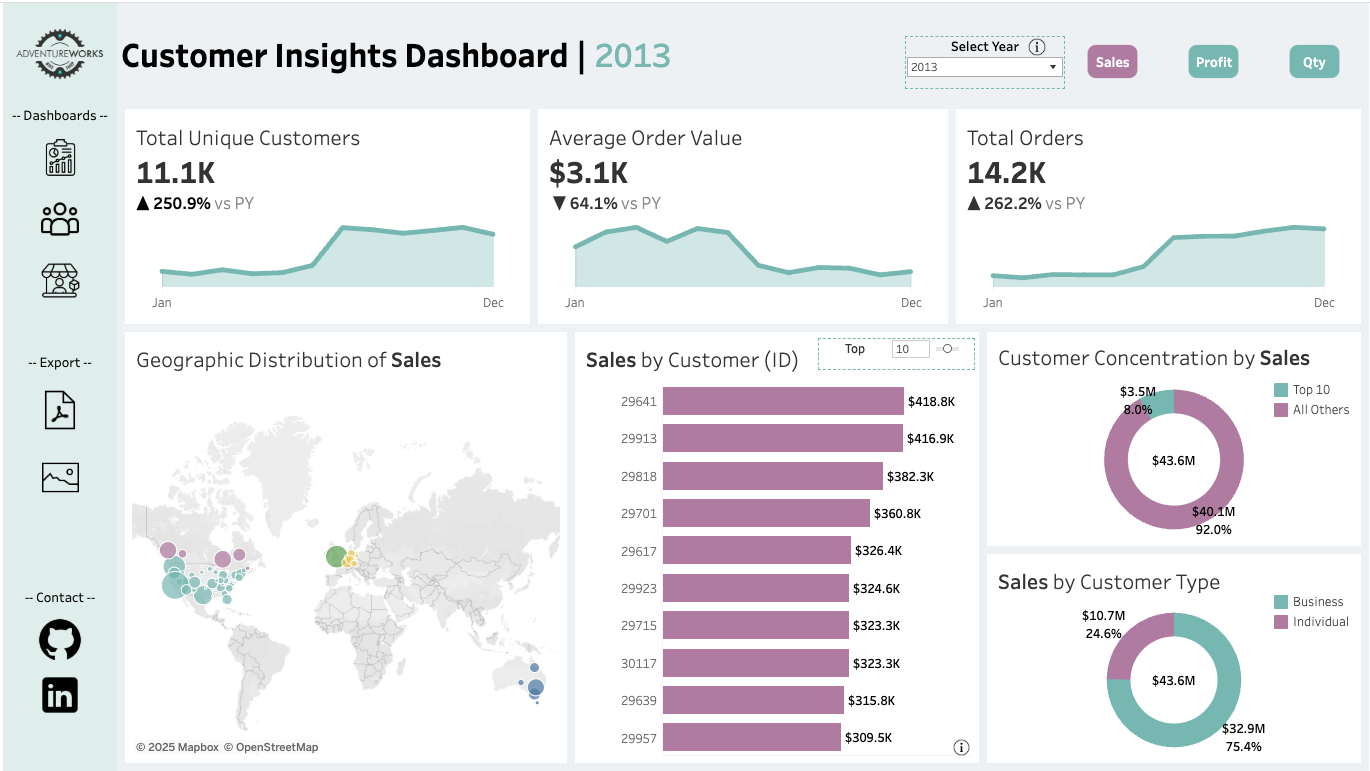

Layout of this report page (visuals, bound fields, positions):
{"tool":"tableau","page":{"name":"Customer Insights Dashboard","canvas":[1366,768],"ordinal":0},"visuals":[{"type":"image","param":"/Users/yishakali/Desktop/Data Sci/06. Personal Projects/AdventureWorks Analytics","box":[0,0,114,102]},{"type":"text","box":[114,0,941,102]},{"type":"worksheet","title":"Sales Button","mark":"Shape","box":[1059,4,101,94]},{"type":"worksheet","title":"Profit Button","mark":"Shape","box":[1160,4,101,94]},{"type":"worksheet","title":"Qty Button","mark":"Shape","box":[1261,4,101,94]},{"type":"parameter","param":"[Parameters].[Parameter 1]","box":[902,33,160,53]},{"type":"dashboard-object","box":[1024,37,18,18]},{"type":"text","box":[120,79,491,30]},{"type":"text","box":[0,102,114,18]},{"type":"worksheet","title":"Customers by Month","mark":"Area","rows":["Calculation_3598587260133130240","Calculation_3598587260133130240"],"cols":["orderdate"],"box":[114,102,417.3,223]},{"type":"worksheet","title":"AOV by Month","mark":"Area","rows":["Calculation_3849662939385085952","Calculation_3849662939385085952"],"cols":["orderdate"],"box":[531.3,102,417.3,223]},{"type":"worksheet","title":"Orders by Month","mark":"Area","rows":["Calculation_3849662939385716737","Calculation_3849662939385716737"],"cols":["orderdate"],"box":[948.6,102,417.3,223]},{"type":"blank","box":[0,120,114,10]},{"type":"dashboard-object","box":[0,130,114,47]},{"type":"blank","box":[0,177,114,15]},{"type":"dashboard-object","box":[0,192,114,46]},{"type":"blank","box":[0,238,114,15]},{"type":"dashboard-object","box":[0,253,114,47]},{"type":"blank","box":[0,303,114,32]},{"type":"worksheet","title":"By Province","mark":"Circle","box":[114,325,454,443]},{"type":"worksheet","title":"By Customer","mark":"Automatic","rows":["customerid"],"cols":["Calculation_1243415759945351177"],"box":[568,325,411.9,443]},{"type":"worksheet","title":"Customer Concentration","mark":"Pie","rows":["Calculation_4341470092517289987","Calculation_4341470092517289987"],"box":[980,325,386,222]},{"type":"blank","box":[0,335,114,10]},{"type":"parameter","param":"[Parameters].[Parameter 4]","box":[815,335,157,32]},{"type":"text","box":[0,345,114,26]},{"type":"text","box":[582,357,198,30]},{"type":"blank","box":[0,371,114,10]},{"type":"dashboard-object","box":[0,381,114,50]},{"type":"blank","box":[0,431,114,20]},{"type":"dashboard-object","box":[0,451,114,45]},{"type":"blank","box":[0,496,114,40]},{"type":"worksheet","title":"By Customer Type","mark":"Pie","rows":["Calculation_4341470092517289987","Calculation_4341470092517289987"],"box":[980,547,386,221]},{"type":"text","box":[4,580,106,26]},{"type":"image","param":"/Users/yishakali/Desktop/Data Sci/06. Personal Projects/AdventureWorks Analytics","box":[4,606,106,60]},{"type":"image","param":"/Users/yishakali/Desktop/Data Sci/06. Personal Projects/AdventureWorks Analytics","box":[4,666,106,50]},{"type":"dashboard-object","box":[946,736,24,17]}]}

Visuals, with their boxes in screenshot pixels (x1, y1, x2, y2), scaled from the page's 1366x768 canvas onto the 1370x771 screenshot:
image: 0:0:114:102
text: 114:0:1058:102
"Sales Button" worksheet (Shape marks): 1062:4:1163:98
"Profit Button" worksheet (Shape marks): 1163:4:1265:98
"Qty Button" worksheet (Shape marks): 1265:4:1366:98
parameter: 905:33:1065:86
dashboard-object: 1027:37:1045:55
text: 120:79:613:109
text: 0:102:114:120
"Customers by Month" worksheet (Area marks): 114:102:533:326
"AOV by Month" worksheet (Area marks): 533:102:951:326
"Orders by Month" worksheet (Area marks): 951:102:1369:326
blank: 0:120:114:131
dashboard-object: 0:131:114:178
blank: 0:178:114:193
dashboard-object: 0:193:114:239
blank: 0:239:114:254
dashboard-object: 0:254:114:301
blank: 0:304:114:336
"By Province" worksheet (Circle marks): 114:326:570:770
"By Customer" worksheet: 570:326:983:770
"Customer Concentration" worksheet (Pie marks): 983:326:1369:549
blank: 0:336:114:346
parameter: 817:336:975:368
text: 0:346:114:372
text: 584:358:782:389
blank: 0:372:114:382
dashboard-object: 0:382:114:433
blank: 0:433:114:453
dashboard-object: 0:453:114:498
blank: 0:498:114:538
"By Customer Type" worksheet (Pie marks): 983:549:1369:770
text: 4:582:110:608
image: 4:608:110:669
image: 4:669:110:719
dashboard-object: 949:739:973:756
